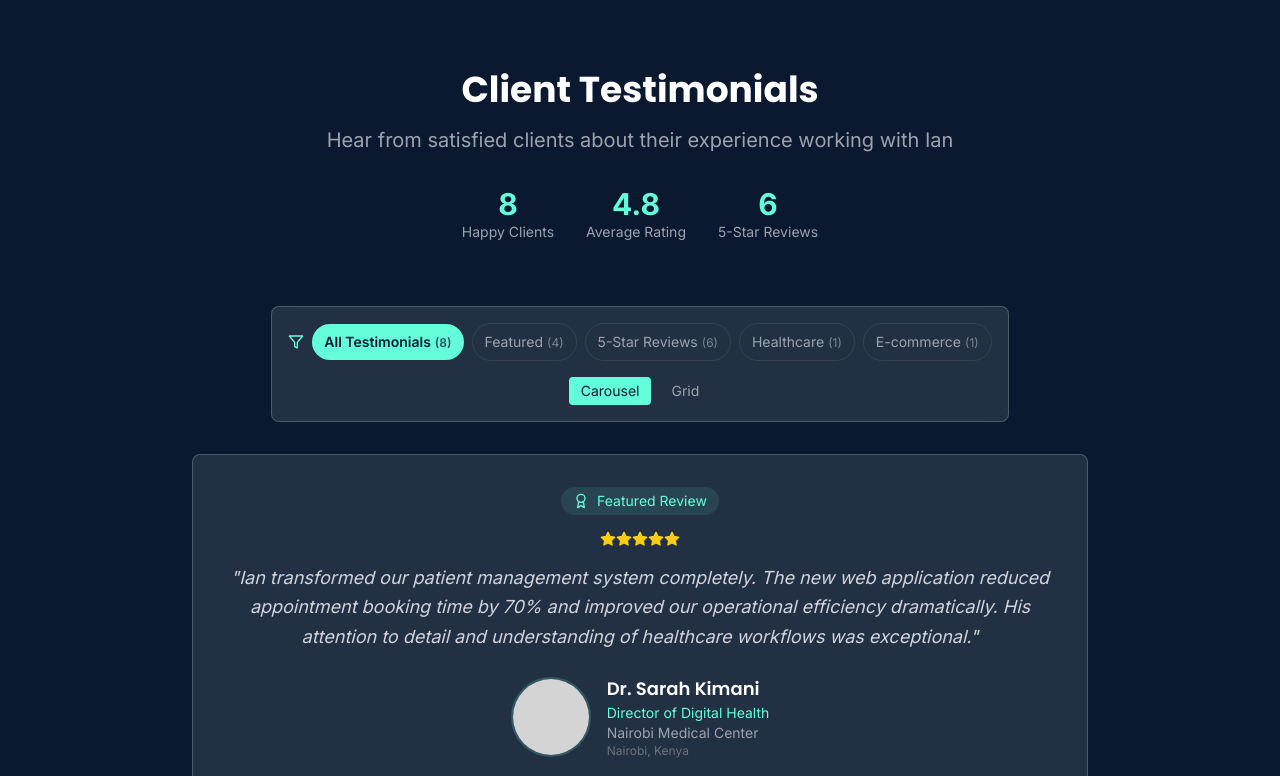
Test: Testimonials Page › Grid View › shows case study links in grid cards
Step 1. Click the button "Grid" → (685, 391), box [660,377,711,405]
(page scrolled)
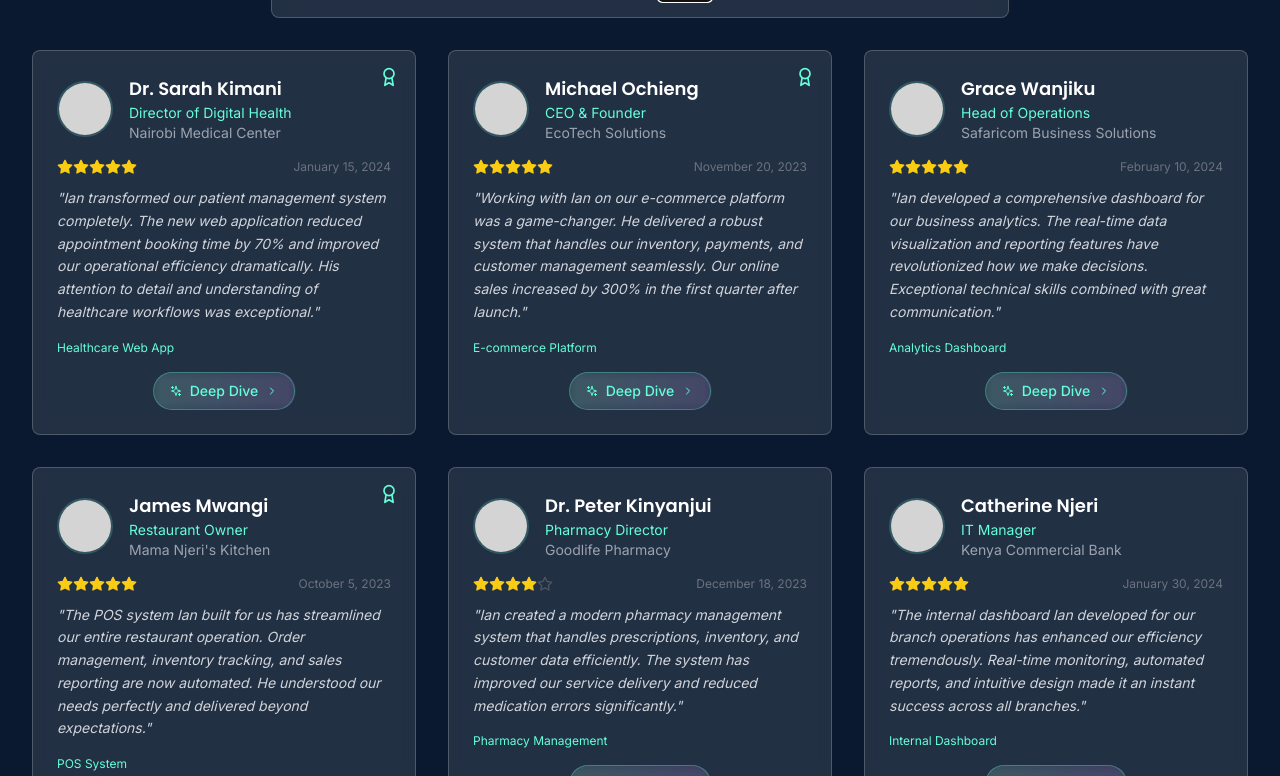
Result: the text "Deep Dive" below "Healthcare Web App" is shown at [190,382,258,398]
